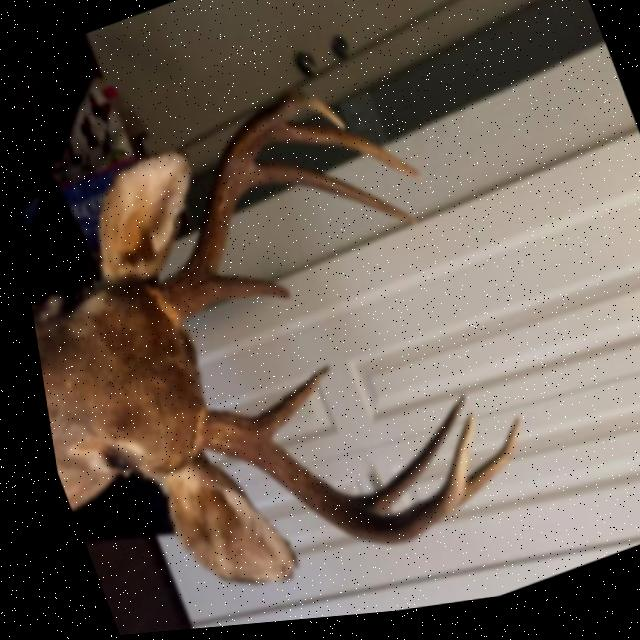L-F: (139, 98, 343, 338)
L-G1: (205, 278, 286, 308)
L-G2: (237, 167, 417, 236)
L-G3: (265, 127, 419, 188)
R-F: (183, 412, 466, 553)
R-G1: (242, 370, 322, 444)
R-G2: (340, 401, 456, 522)
